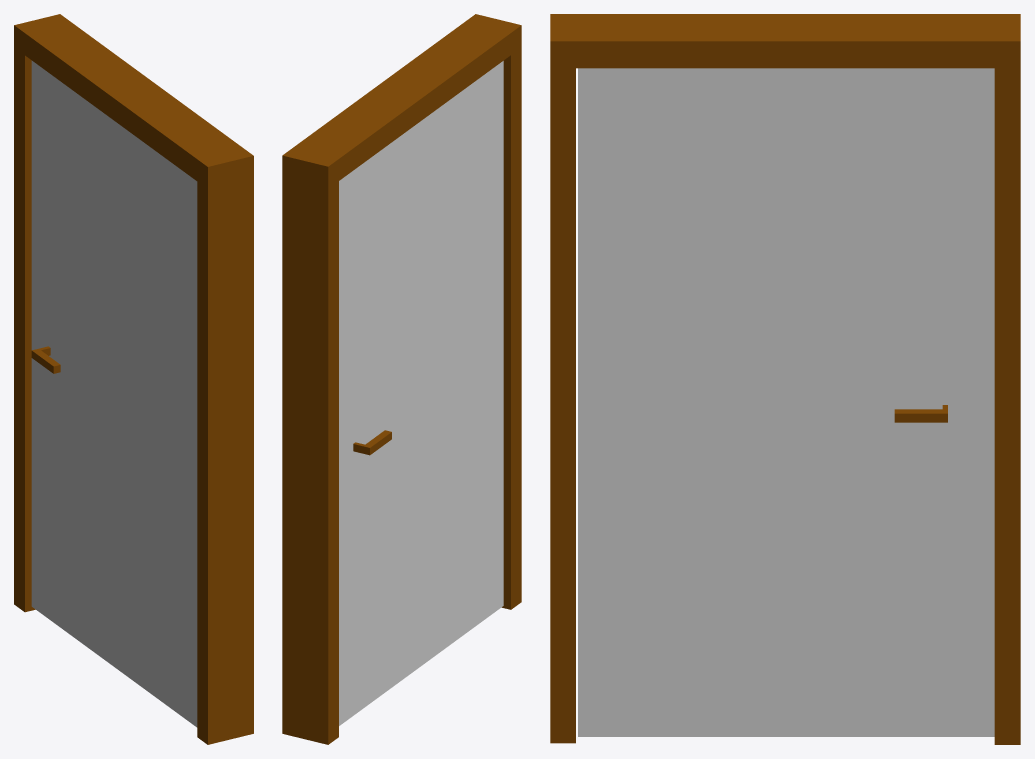
The model's file is door1.gltf.
The picture shows the model from 3 angles, left to right: view 1: azimuth 30°, elevation 25°; view 2: azimuth 150°, elevation 25°; view 3: azimuth 270°, elevation 25°; orthographic projection. The views are drawn at different scales.
Parts seen in each view (by area): view 1: Porte, Batis; view 2: Porte, Batis; view 3: Porte, Batis.
Boxes of the visible parts, bbox=[...] form: Porte: bbox=[31, 60, 197, 727]; Batis: bbox=[14, 14, 253, 744]; Porte: bbox=[339, 61, 503, 725]; Batis: bbox=[282, 14, 521, 744]; Porte: bbox=[578, 68, 994, 736]; Batis: bbox=[550, 14, 1020, 744].
Size of the model in its own units: 0.8075 by 6.58 by 3.99.
